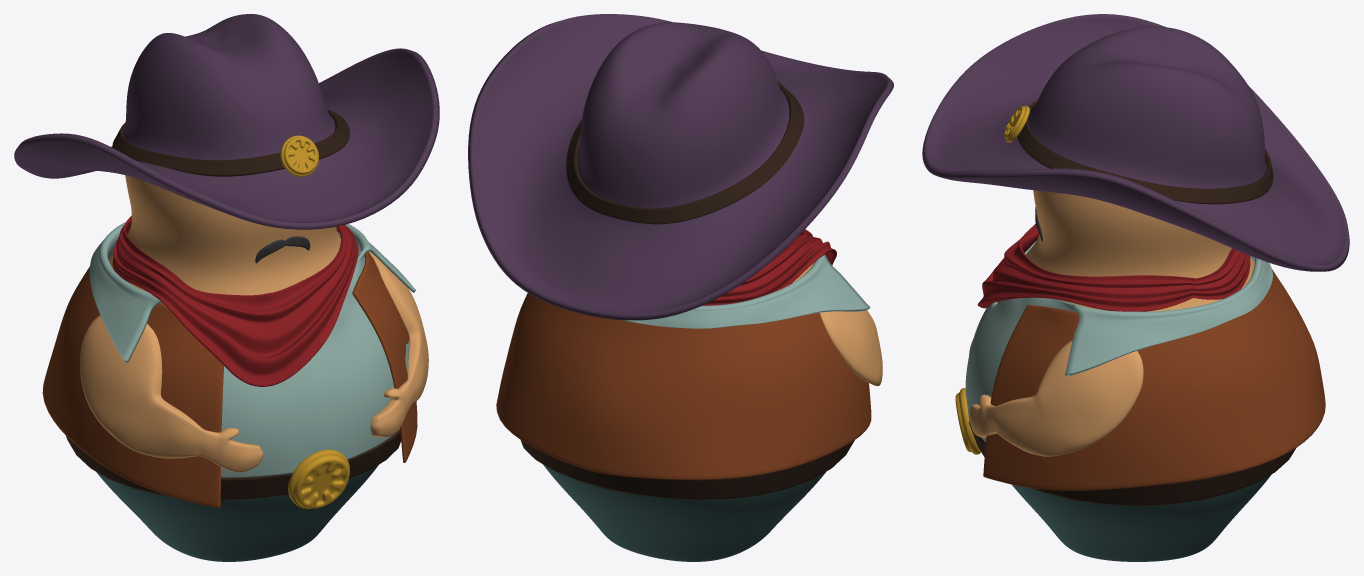
File: howdyhighPoly_stamp.glb
3 renders of one model, left to right at view 1: azimuth 30°, elevation 25°; view 2: azimuth 150°, elevation 25°; view 3: azimuth 270°, elevation 25°, orthographic.
Parts seen in each view (by area): view 1: hat, shirt, vest, scarf, arms, head, body, hatBelt, belt, beltAccessory, hatAccessory, mustache; view 2: hat, vest, body, shirt, belt, hatBelt, scarf, arms; view 3: hat, vest, head, shirt, arms, body, scarf, belt, hatBelt, beltAccessory, hatAccessory.
Part boxes in pixels (bbox=[...]): hat: bbox=[14, 14, 439, 229]; shirt: bbox=[89, 222, 415, 477]; vest: bbox=[42, 251, 417, 508]; scarf: bbox=[112, 215, 358, 386]; arms: bbox=[80, 252, 428, 472]; head: bbox=[108, 175, 340, 295]; body: bbox=[96, 465, 378, 561]; hatBelt: bbox=[112, 109, 349, 176]; belt: bbox=[66, 429, 401, 499]; beltAccessory: bbox=[288, 449, 349, 508]; hatAccessory: bbox=[280, 135, 318, 176]; mustache: bbox=[255, 236, 310, 263]; hat: bbox=[468, 14, 893, 320]; vest: bbox=[496, 293, 871, 479]; body: bbox=[543, 464, 825, 561]; shirt: bbox=[621, 254, 870, 328]; belt: bbox=[520, 440, 854, 499]; hatBelt: bbox=[566, 81, 803, 224]; scarf: bbox=[703, 229, 836, 305]; arms: bbox=[819, 310, 882, 386]; hat: bbox=[922, 14, 1349, 271]; vest: bbox=[983, 269, 1325, 490]; head: bbox=[1026, 190, 1254, 311]; shirt: bbox=[965, 241, 1272, 441]; arms: bbox=[969, 339, 1143, 456]; body: bbox=[997, 301, 1271, 561]; scarf: bbox=[977, 224, 1250, 311]; belt: bbox=[968, 421, 1295, 506]; hatBelt: bbox=[1017, 101, 1273, 204]; beltAccessory: bbox=[955, 388, 980, 454]; hatAccessory: bbox=[1004, 105, 1029, 142].
Bounding box in the file's own units: 3.18 × 4.1 × 3.29.
